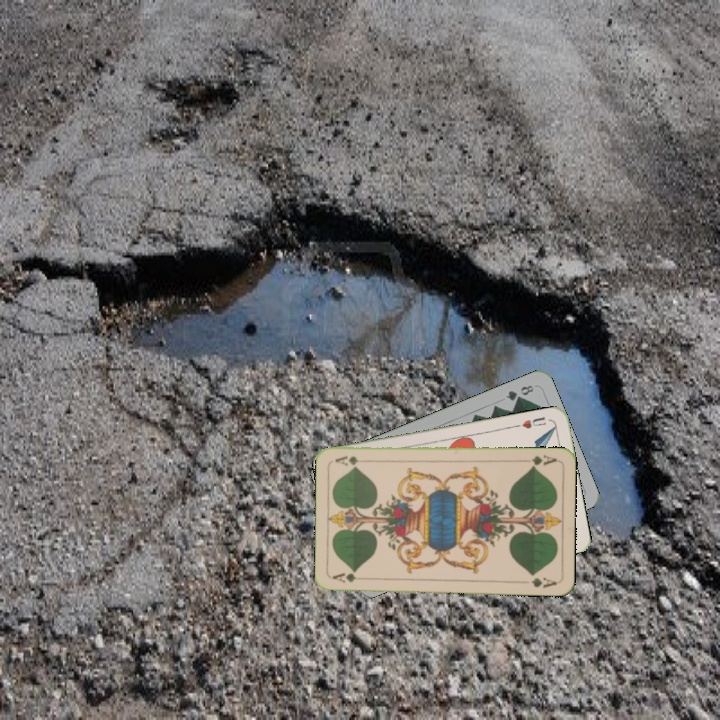G8: (502, 381, 536, 403)
GA: (519, 451, 559, 470), (329, 569, 370, 585)
HU: (518, 413, 549, 431)
